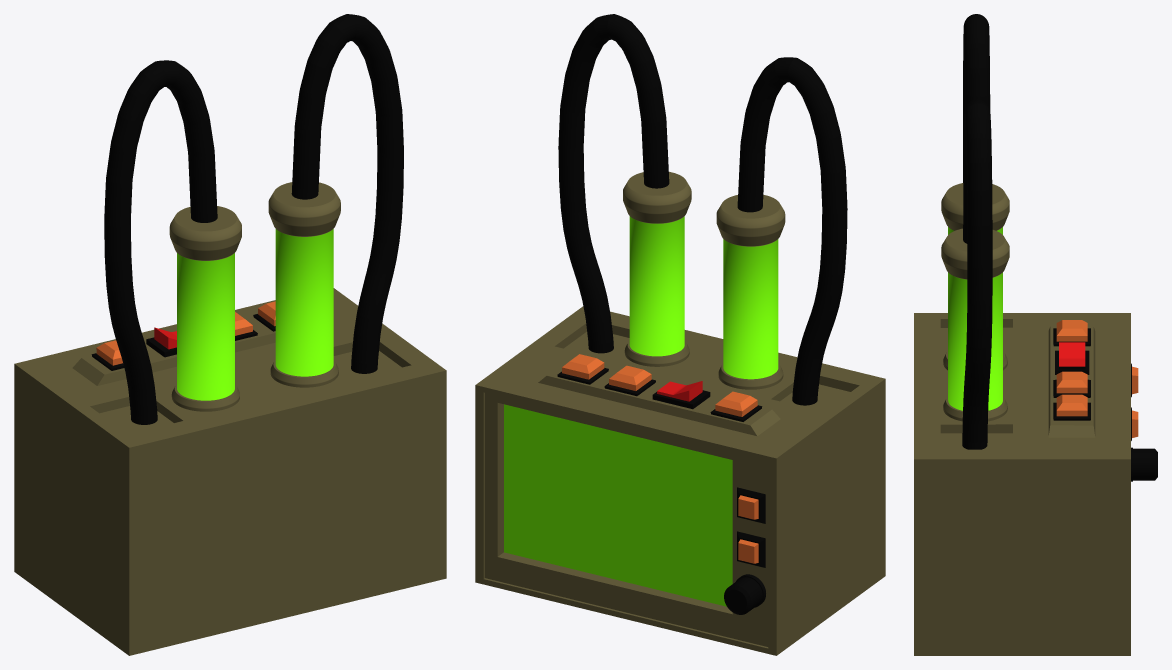
File: LaboOscillo 1.fbx
3 renders of one model, left to right at view 1: azimuth 30°, elevation 25°; view 2: azimuth 150°, elevation 25°; view 3: azimuth 270°, elevation 25°, orthographic. The views are drawn at different scales.
Visible parts, largest first — view 1: Oscillio; view 2: Oscillio; view 3: Oscillio.
Boxes of the visible parts, x1=… form: Oscillio: x1=14, y1=14, x2=446, y2=655; Oscillio: x1=475, y1=14, x2=885, y2=655; Oscillio: x1=914, y1=14, x2=1157, y2=655.
Size of the model in its own units: 468 by 781 by 330.
